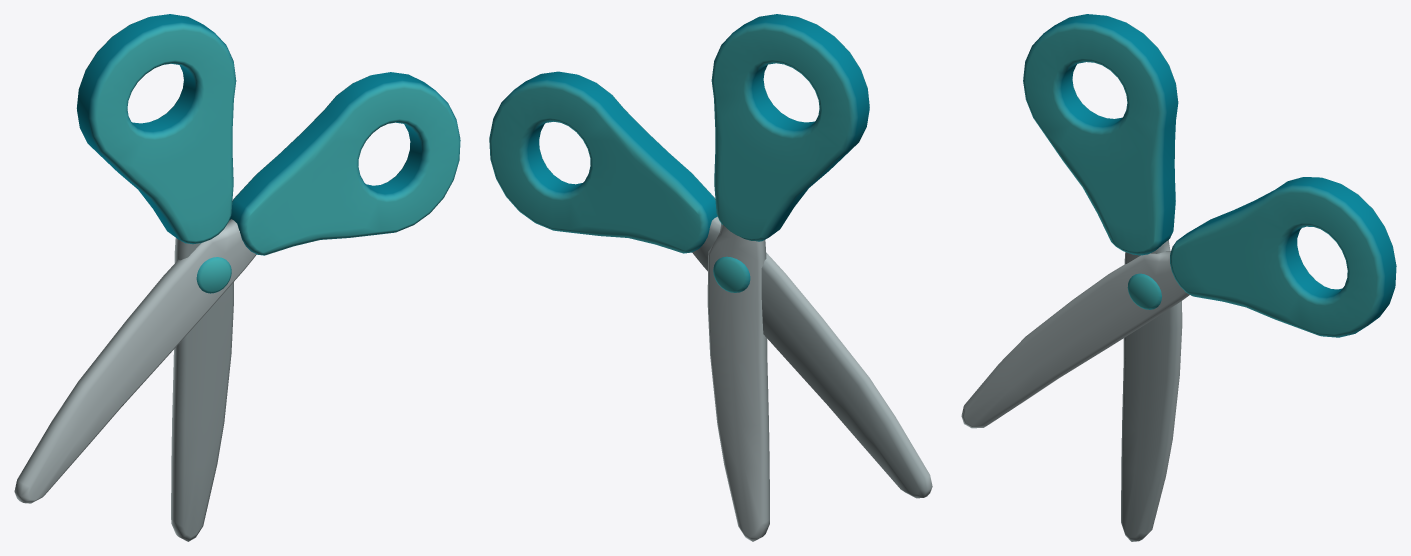
The model's file is scissors.fbx.
The picture shows the model from 3 angles, left to right: view 1: azimuth 30°, elevation 25°; view 2: azimuth 150°, elevation 25°; view 3: azimuth 330°, elevation 25°; orthographic projection. The views are drawn at different scales.
Visible parts, largest first — view 1: scissors; view 2: scissors; view 3: scissors.
Part boxes in pixels (x1,y1,x2,y2): scissors: [14, 14, 460, 541]; scissors: [489, 14, 932, 541]; scissors: [961, 14, 1396, 541].
Bounding box in the file's own units: 1.37 × 1.59 × 0.1042.
